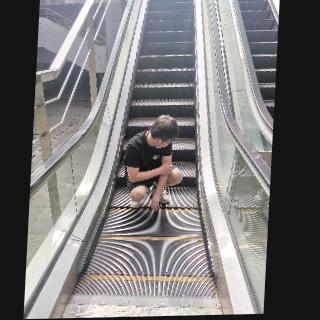anomaly: (121, 114, 186, 211)
